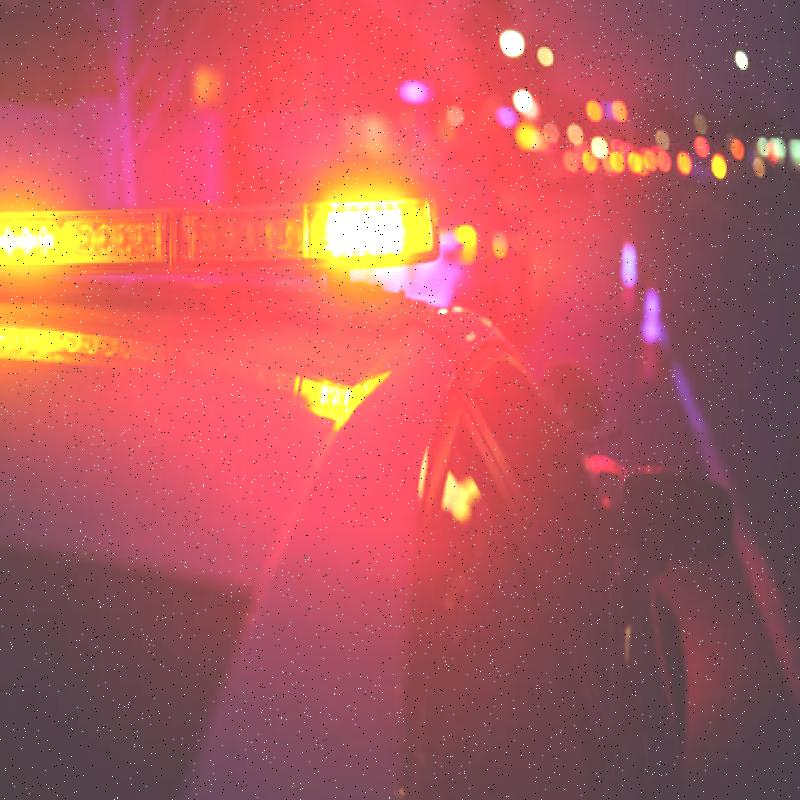AmbulanceSiren: (0, 162, 454, 321)
